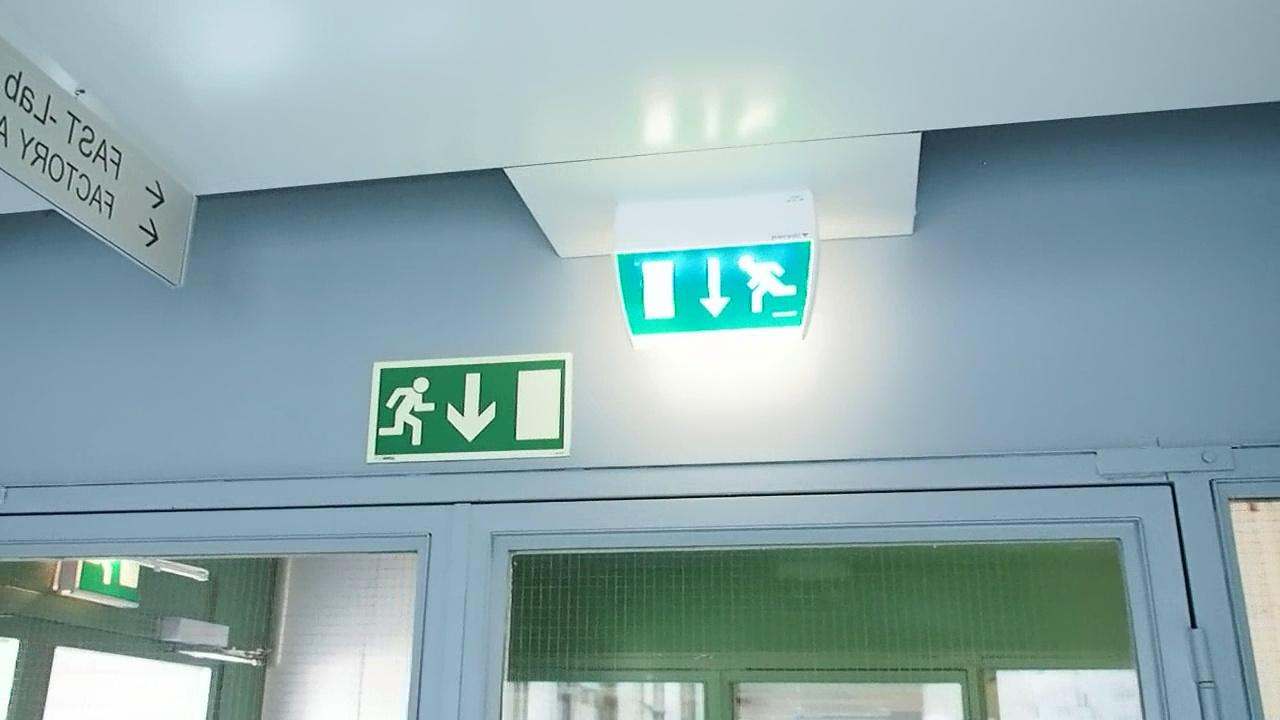exit: (360, 360, 572, 464), (619, 237, 816, 342)
